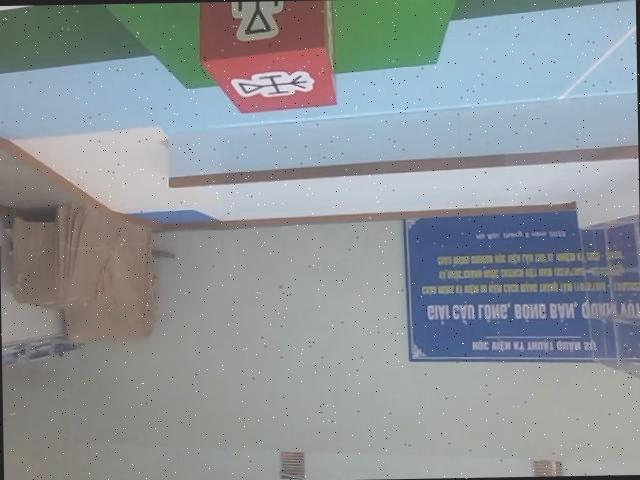R2 Real: (199, 0, 337, 116)
